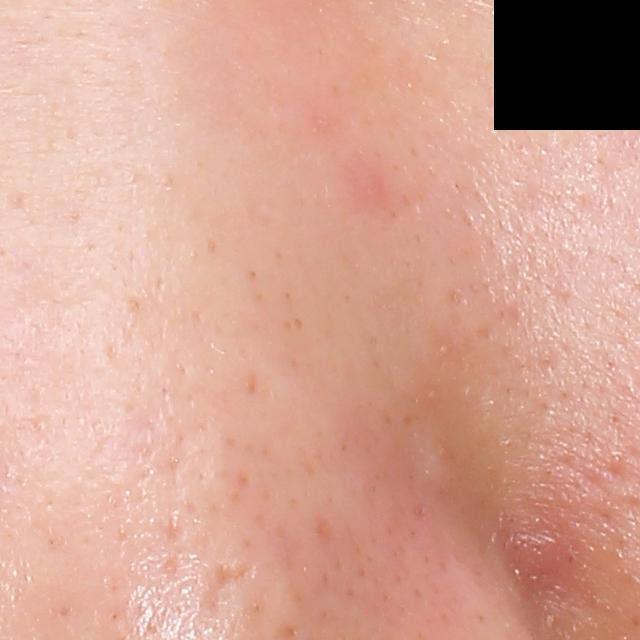atrophic_scar: (201, 555, 259, 618)
papule: (507, 523, 559, 580)
